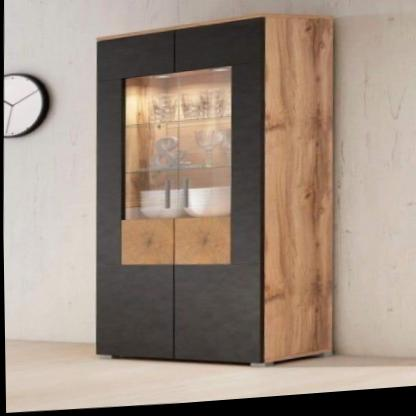Cupboard: (94, 19, 335, 370)
